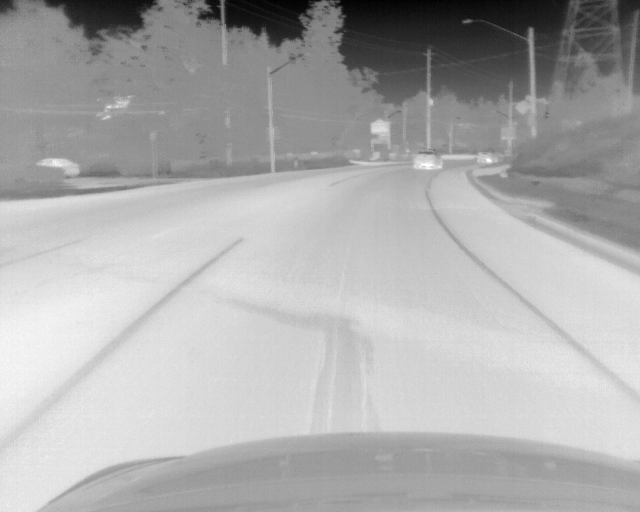car: (34, 159, 81, 180), (412, 147, 442, 172), (475, 151, 499, 165)
